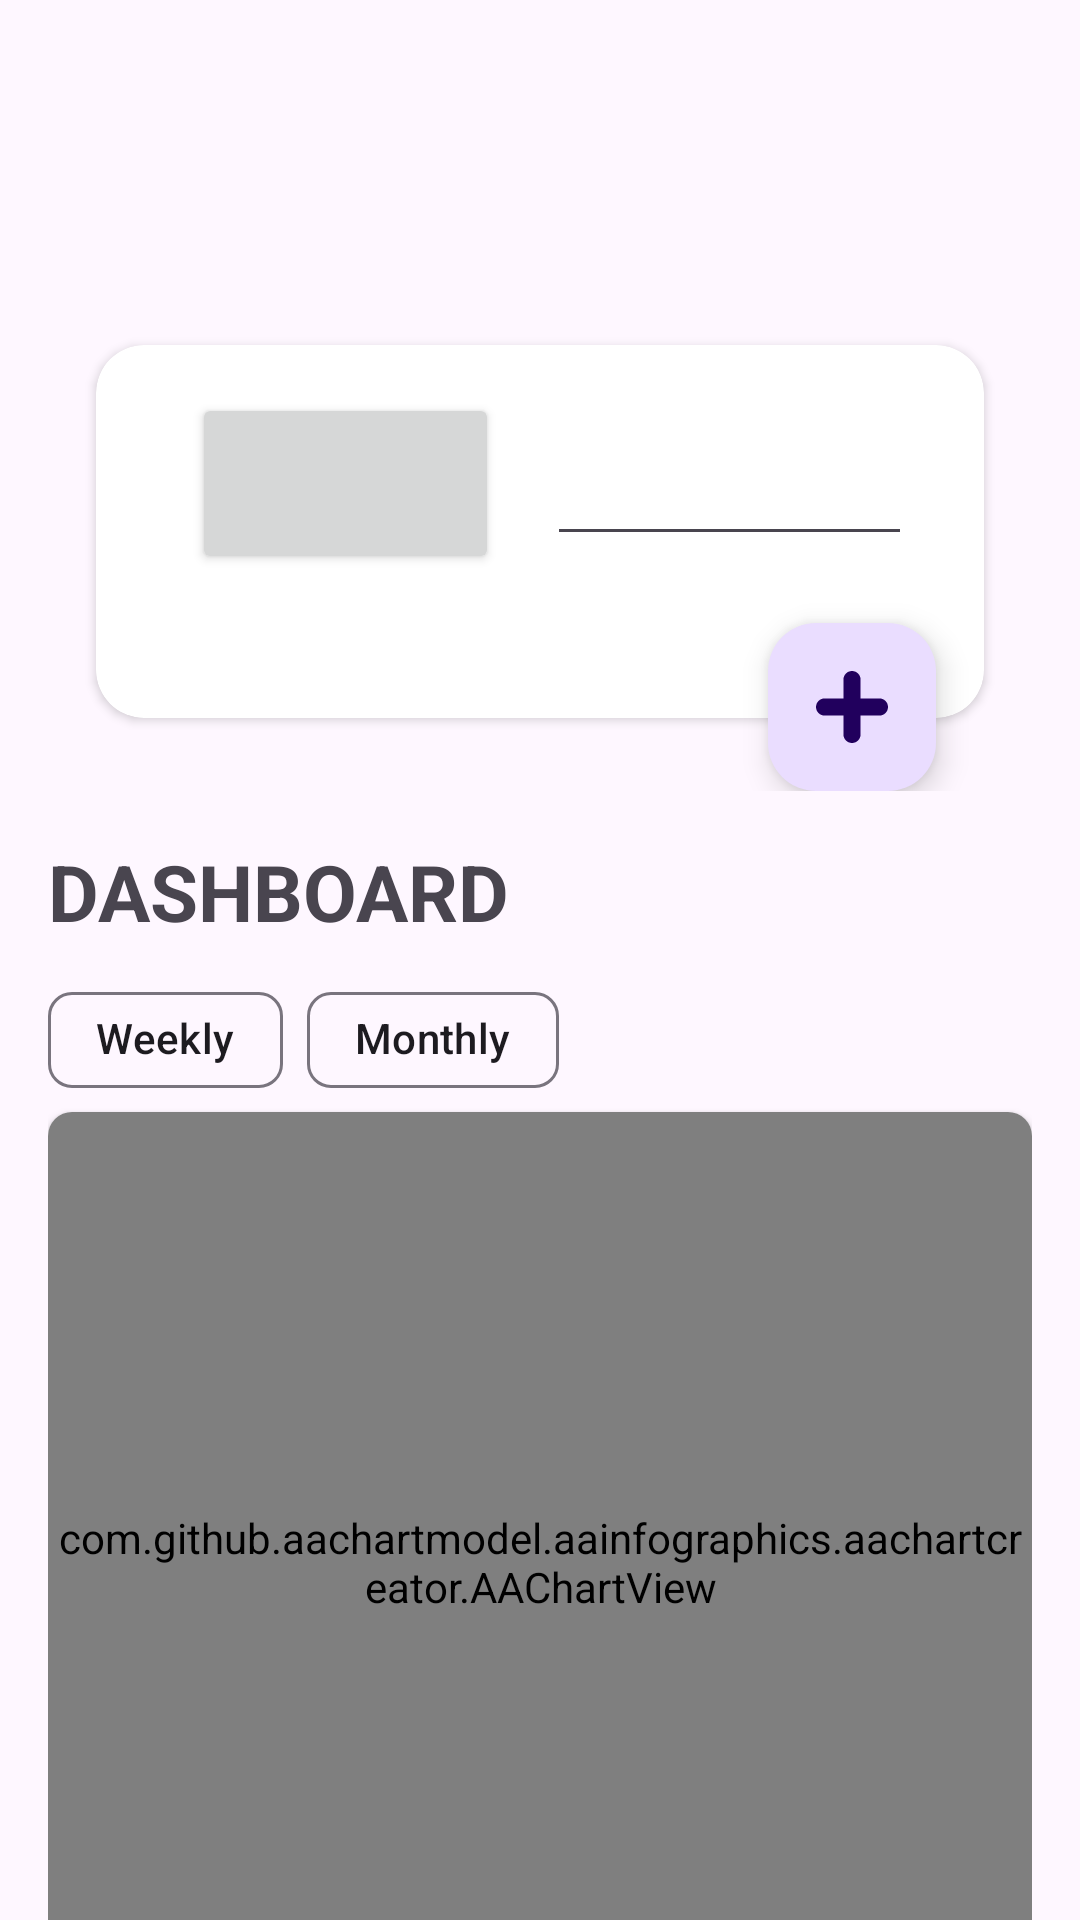

Point at icon controls on the screen. Image size 1080px×1920px, points as [x,y].
add: [852,707]
